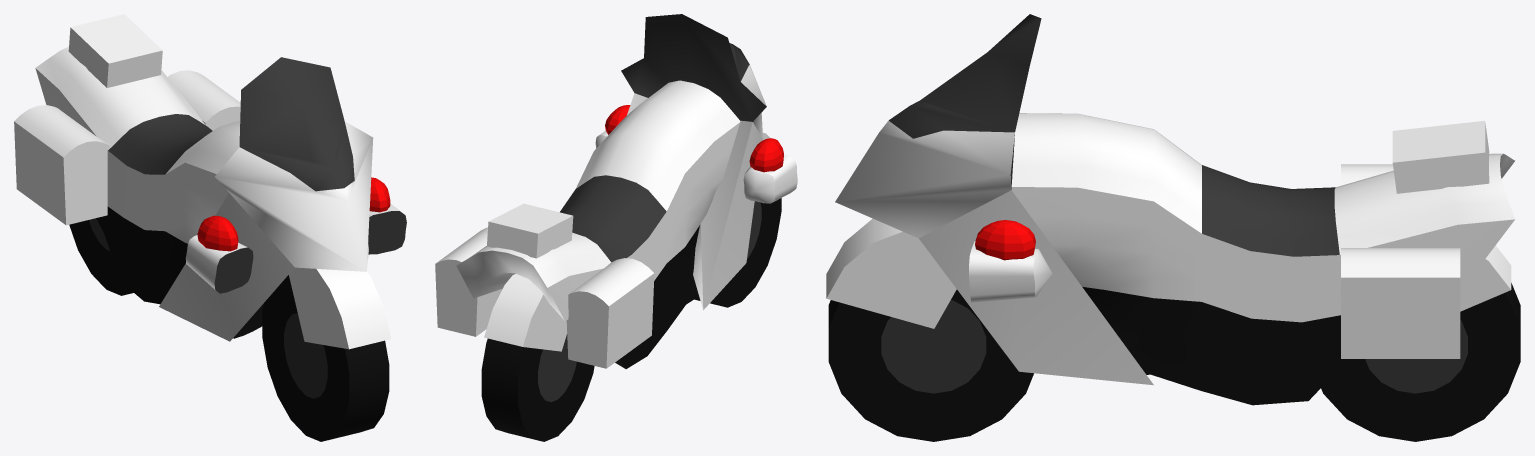
Rendered from sirobai.obj.
3 views of the same model, side by side, from view 1: azimuth 30°, elevation 25°; view 2: azimuth 150°, elevation 25°; view 3: azimuth 270°, elevation 25° (orthographic). The views are drawn at different scales.
Visible parts, largest first — view 1: pCube1, pCube2, pCylinder1, pasted__pCube3 group1, pasted__pCylinder1 group, pCube4, pasted__pCylinder2 group5, pCube3, pasted__pCylinder1 group2, pCylinder2, pasted__pSphere1 group6, pSphere1; view 2: pCube2, pCube1, pasted__pCylinder1 group2, pasted__pCube3 group1, pasted__pasted__pCylinder1 pasted__group group3, pCube3, pCube4, pCylinder1, pasted__pCylinder2 group5, pasted__pSphere1 group6, pSphere1; view 3: pCube2, pCube1, pCylinder1, pasted__pCylinder1 group2, pCube3, pasted__pCylinder1 group, pCube4, pCylinder2, pasted__pasted__pCylinder1 pasted__group group3, pSphere1, pasted__pCube3 group1.
Boxes of the visible parts, x1,y1,x2,y2 form: pCube1: [159, 57, 373, 341]; pCube2: [35, 47, 263, 338]; pCylinder1: [262, 275, 389, 441]; pasted__pCube3 group1: [14, 105, 110, 225]; pasted__pCylinder1 group: [289, 267, 391, 349]; pCube4: [68, 14, 162, 87]; pasted__pCylinder2 group5: [185, 235, 253, 293]; pCube3: [167, 70, 240, 130]; pasted__pCylinder1 group2: [69, 218, 133, 295]; pCylinder2: [368, 203, 406, 254]; pasted__pSphere1 group6: [197, 215, 238, 251]; pSphere1: [369, 177, 390, 212]; pCube2: [456, 80, 740, 368]; pCube1: [621, 14, 766, 310]; pasted__pCylinder1 group2: [481, 334, 594, 441]; pasted__pCube3 group1: [566, 258, 654, 368]; pasted__pasted__pCylinder1 pasted__group group3: [484, 274, 567, 351]; pCube3: [435, 227, 501, 336]; pCube4: [487, 203, 573, 258]; pCylinder1: [694, 198, 781, 307]; pasted__pCylinder2 group5: [743, 154, 797, 203]; pasted__pSphere1 group6: [749, 138, 783, 172]; pSphere1: [605, 105, 630, 134]; pCube2: [1011, 113, 1515, 405]; pCube1: [835, 14, 1153, 385]; pCylinder1: [828, 289, 1033, 441]; pasted__pCylinder1 group2: [1321, 283, 1520, 441]; pCube3: [1341, 248, 1460, 358]; pasted__pCylinder1 group: [826, 218, 956, 328]; pCube4: [1392, 120, 1489, 193]; pCylinder2: [969, 241, 1052, 302]; pasted__pasted__pCylinder1 pasted__group group3: [1460, 245, 1511, 311]; pSphere1: [975, 220, 1035, 260]; pasted__pCube3 group1: [1341, 164, 1393, 185].
Size of the model in its own units: 1.52 by 2.53 by 3.87.
